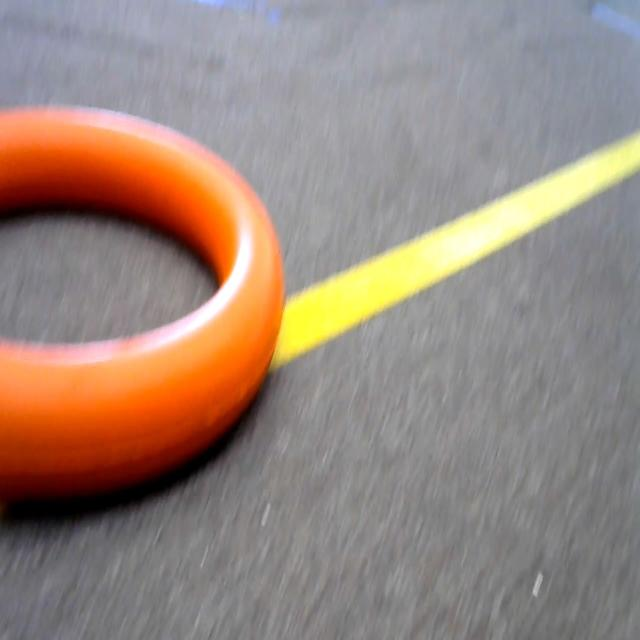note: (0, 71, 294, 512)
